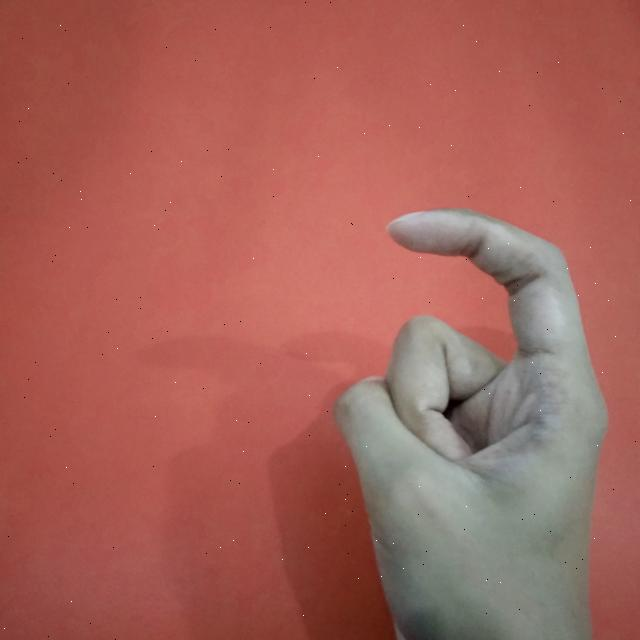X: (323, 202, 618, 640)
